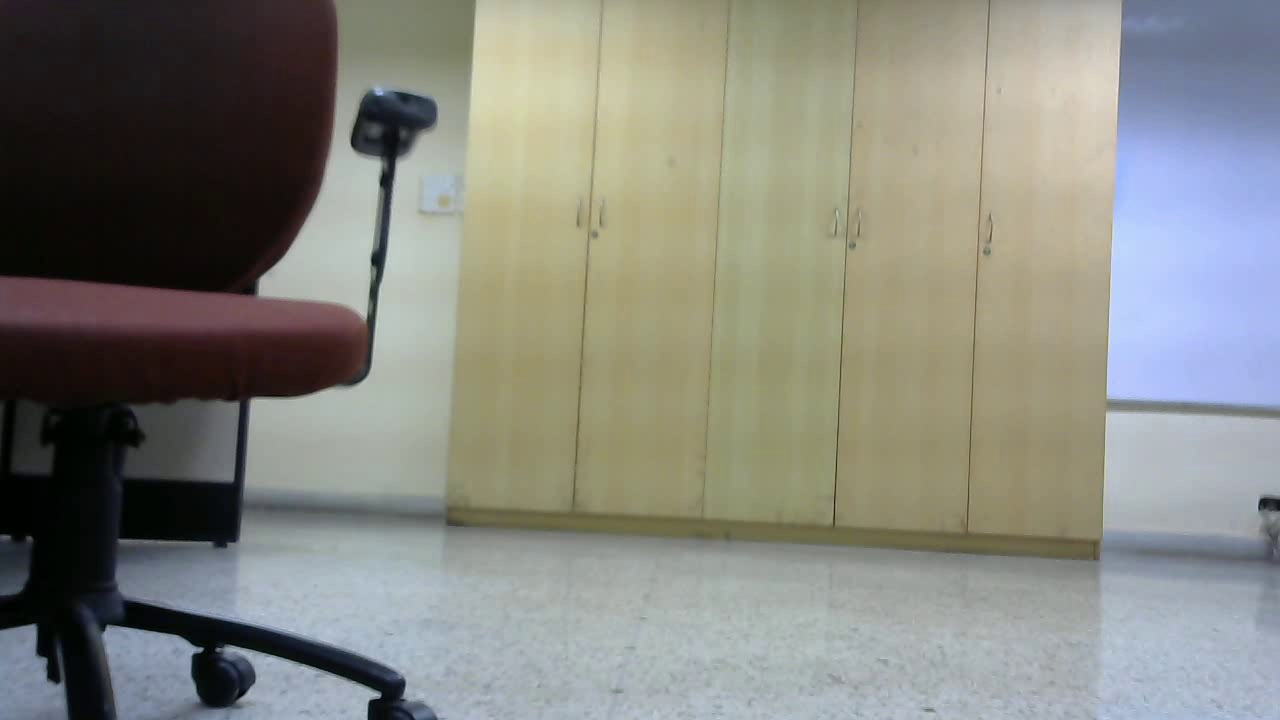chair: (3, 4, 446, 720)
